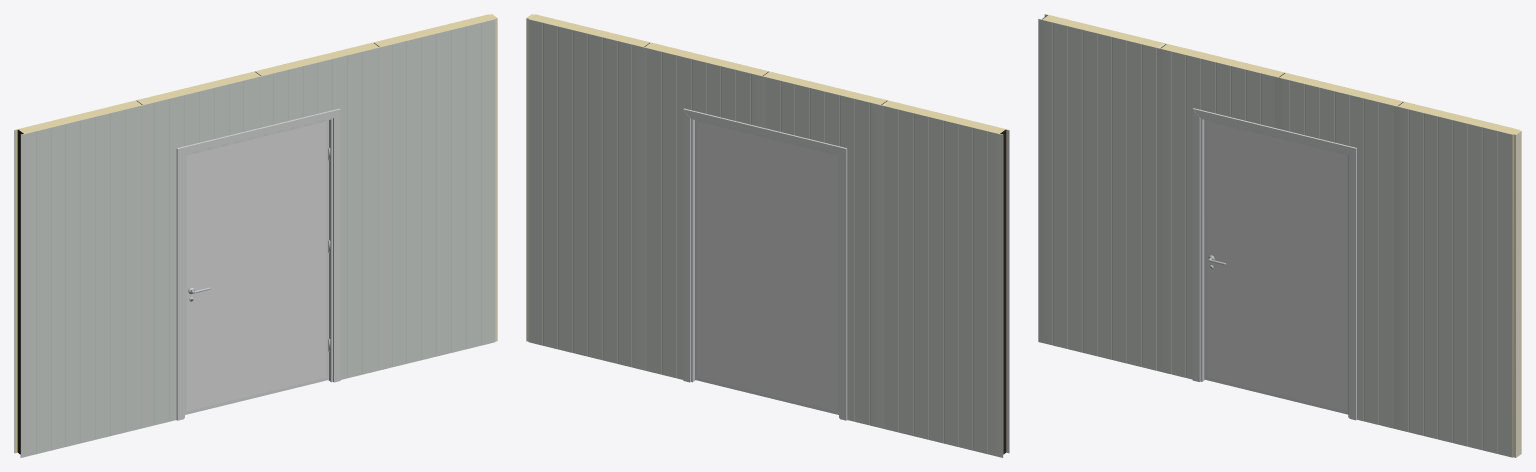
The model's file is office-4x7.glb.
The picture shows the model from 3 angles, left to right: view 1: azimuth 30°, elevation 25°; view 2: azimuth 150°, elevation 25°; view 3: azimuth 330°, elevation 25°; orthographic projection.
Parts seen in each view (by area): view 1: Wall_p0_Steel_top, Wall_p3_Steel_top, SkinF, Wall_p1_Steel_top, Wall_p2_Steel_top, TrimF_L, TrimF_R, Wall_p0_PIR_core, TrimF_T, Wall_p0_Gasket, LinerR, Wall_p3_Tongue_tape (+7 smaller); view 2: Wall_p0_Steel_bottom, Wall_p3_Steel_bottom, SkinB, Wall_p1_Steel_bottom, Wall_p2_Steel_bottom, TrimB_L, TrimB_R, Wall_p0_PIR_core, TrimB_T, Wall_p0_Gasket, LinerR, Wall_p3_Tongue_tape (+6 smaller); view 3: Wall_p3_Steel_top, Wall_p0_Steel_top, SkinF, Wall_p2_Steel_top, Wall_p1_Steel_top, Wall_p3_Tongue_tape, TrimF_L, TrimF_R, Wall_p3_PIR_core, TrimF_T, LinerL, AluF_L (+5 smaller).
Boxes of the visible parts, <box> form: Wall_p0_Steel_top: <box>20,106,139,457</box>; Wall_p3_Steel_top: <box>377,19,495,370</box>; SkinF: <box>186,122,326,411</box>; Wall_p1_Steel_top: <box>139,77,258,428</box>; Wall_p2_Steel_top: <box>258,48,376,379</box>; TrimF_L: <box>176,149,184,420</box>; TrimF_R: <box>333,110,340,382</box>; Wall_p0_PIR_core: <box>14,101,141,452</box>; TrimF_T: <box>177,108,340,154</box>; Wall_p0_Gasket: <box>17,129,23,454</box>; LinerR: <box>328,119,332,382</box>; Wall_p3_Tongue_tape: <box>490,14,497,341</box>; Wall_p0_Steel_bottom: <box>884,106,1003,457</box>; Wall_p3_Steel_bottom: <box>528,19,646,370</box>; SkinB: <box>697,122,837,411</box>; Wall_p1_Steel_bottom: <box>765,77,884,428</box>; Wall_p2_Steel_bottom: <box>647,48,765,379</box>; TrimB_L: <box>839,149,847,420</box>; TrimB_R: <box>683,110,690,382</box>; Wall_p0_PIR_core: <box>882,101,1009,452</box>; TrimB_T: <box>683,108,846,154</box>; Wall_p0_Gasket: <box>1000,129,1006,454</box>; LinerR: <box>691,118,695,382</box>; Wall_p3_Tongue_tape: <box>526,14,533,341</box>; Wall_p3_Steel_top: <box>1394,105,1512,457</box>; Wall_p0_Steel_top: <box>1038,19,1156,370</box>; SkinF: <box>1207,121,1346,411</box>; Wall_p2_Steel_top: <box>1275,77,1393,428</box>; Wall_p1_Steel_top: <box>1157,48,1275,379</box>; Wall_p3_Tongue_tape: <box>1513,131,1521,457</box>; TrimF_L: <box>1192,109,1200,381</box>; TrimF_R: <box>1349,148,1356,420</box>; Wall_p3_PIR_core: <box>1394,101,1521,457</box>; TrimF_T: <box>1193,108,1356,153</box>; LinerL: <box>1200,118,1204,381</box>; AluF_L: <box>1204,119,1207,379</box>.
Size of the model in its own units: 4.02 by 2.6 by 0.133.
